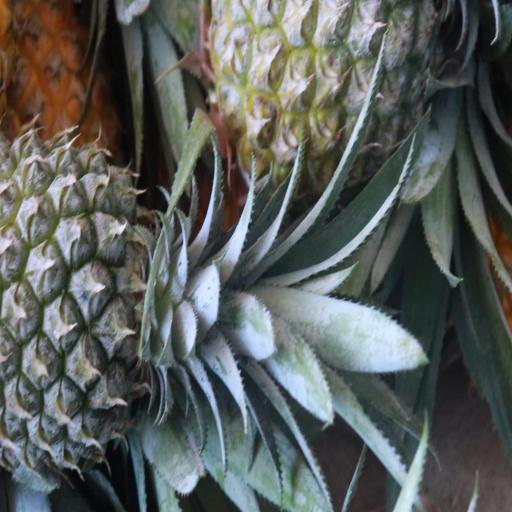------------------------------: (211, 0, 442, 194)
